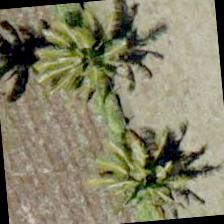Kelapa_Sawit: (32, 11, 130, 110), (100, 133, 199, 223)
